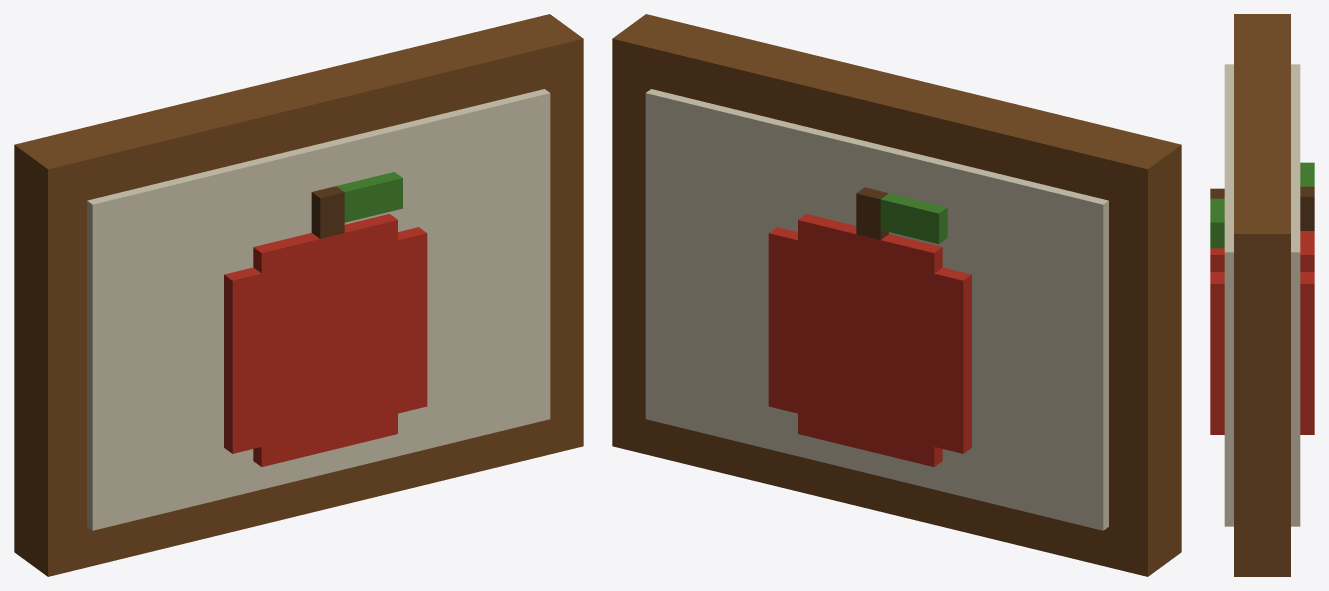
Rendered from nt-sign-apple.glb.
3 views of the same model, side by side, from view 1: azimuth 30°, elevation 25°; view 2: azimuth 150°, elevation 25°; view 3: azimuth 270°, elevation 25° (orthographic). The views are drawn at different scales.
Visible parts, largest first — view 1: box-prop; view 2: box-prop; view 3: box-prop.
Part boxes in pixels (x1,y1,x2,y2): box-prop: (14, 14, 583, 576); box-prop: (612, 14, 1181, 576); box-prop: (1210, 14, 1314, 576).
Bounding box in the file's own units: 1.87 × 1.36 × 0.374.
